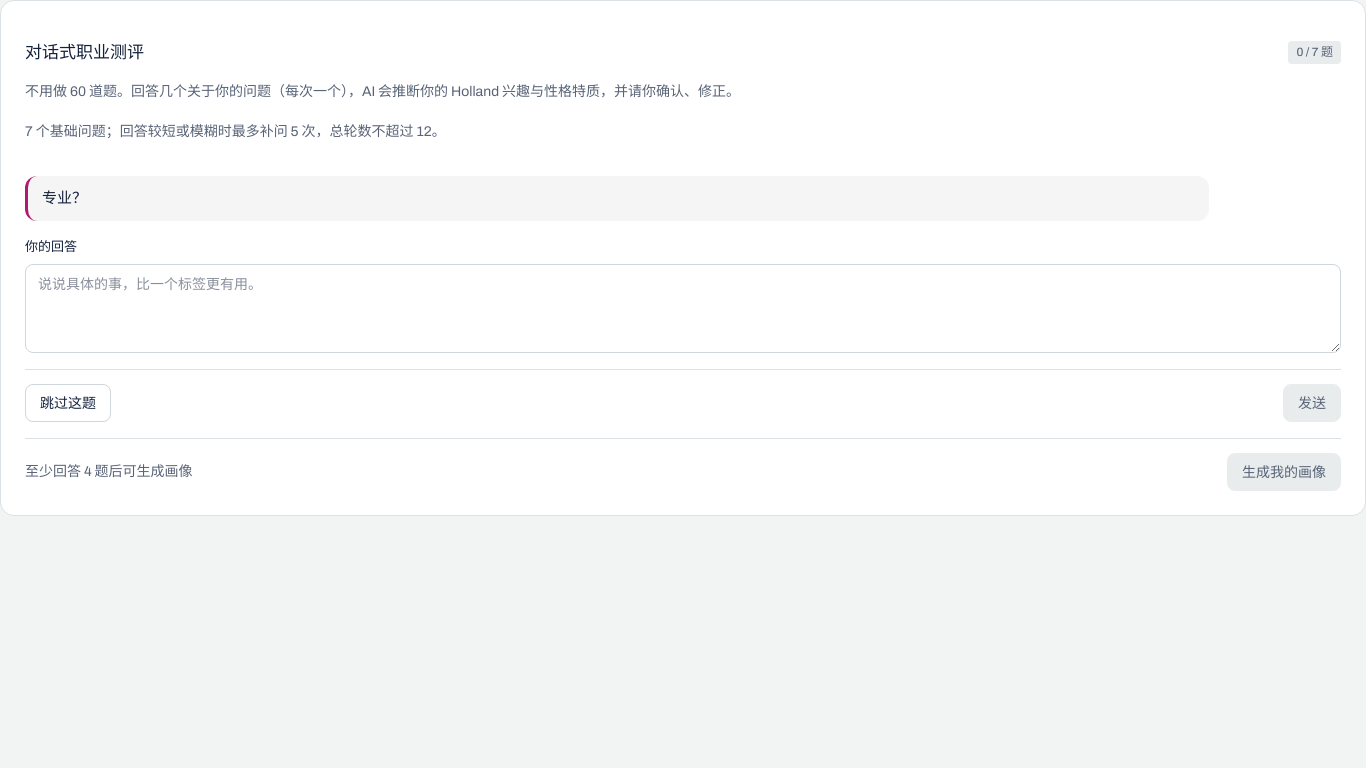
Test: asks the new clarification immediately and resumes base questions after answering it
Step 1. Type "不知道" into the text box labelled "你的回答" → (683, 309), box [25, 264, 1341, 353]
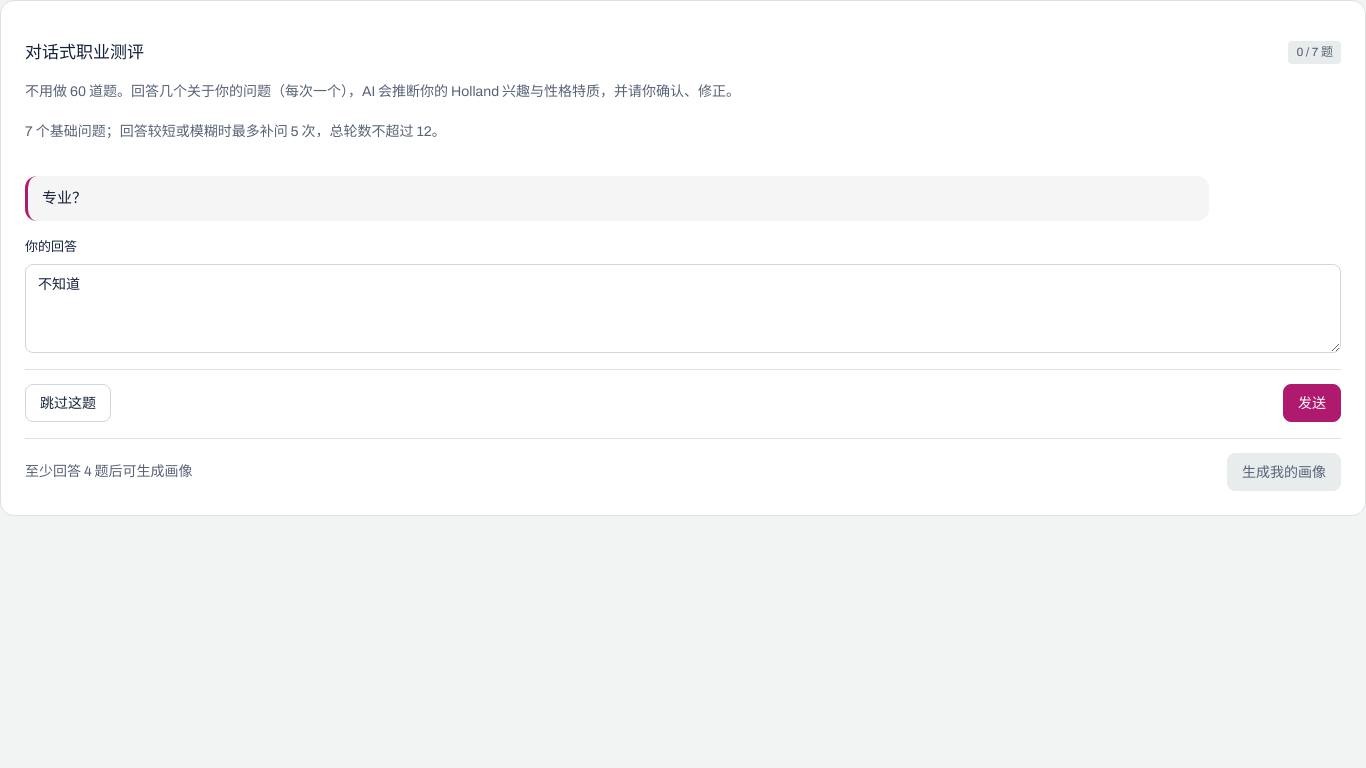
Step 2. Click the button "发送" → (1312, 403), box [1283, 384, 1341, 422]
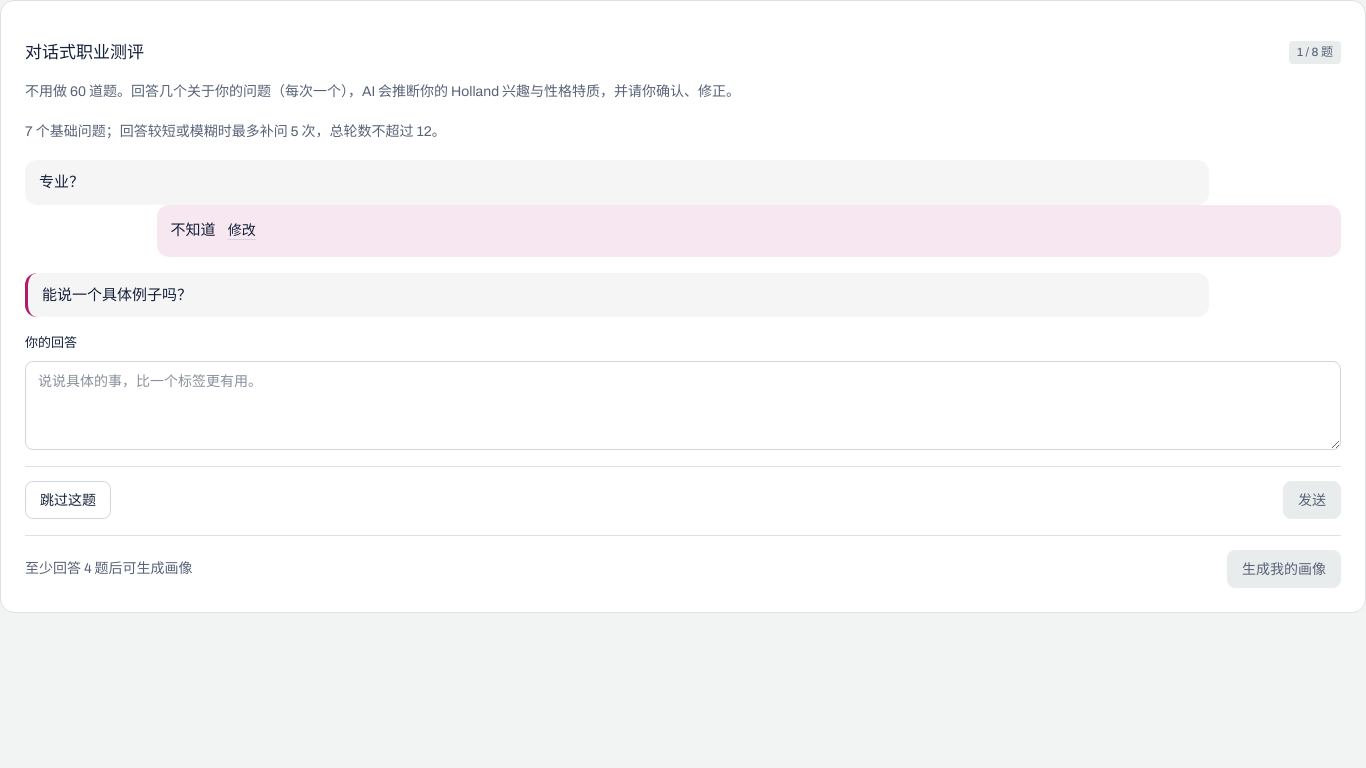
Result: the text with class "current" reads "能说一个具体例子吗？" at [42, 286, 192, 302]
Step 3. Type "我最近做过一个小程序" into the text box labelled "你的回答" → (683, 405), box [25, 361, 1341, 450]
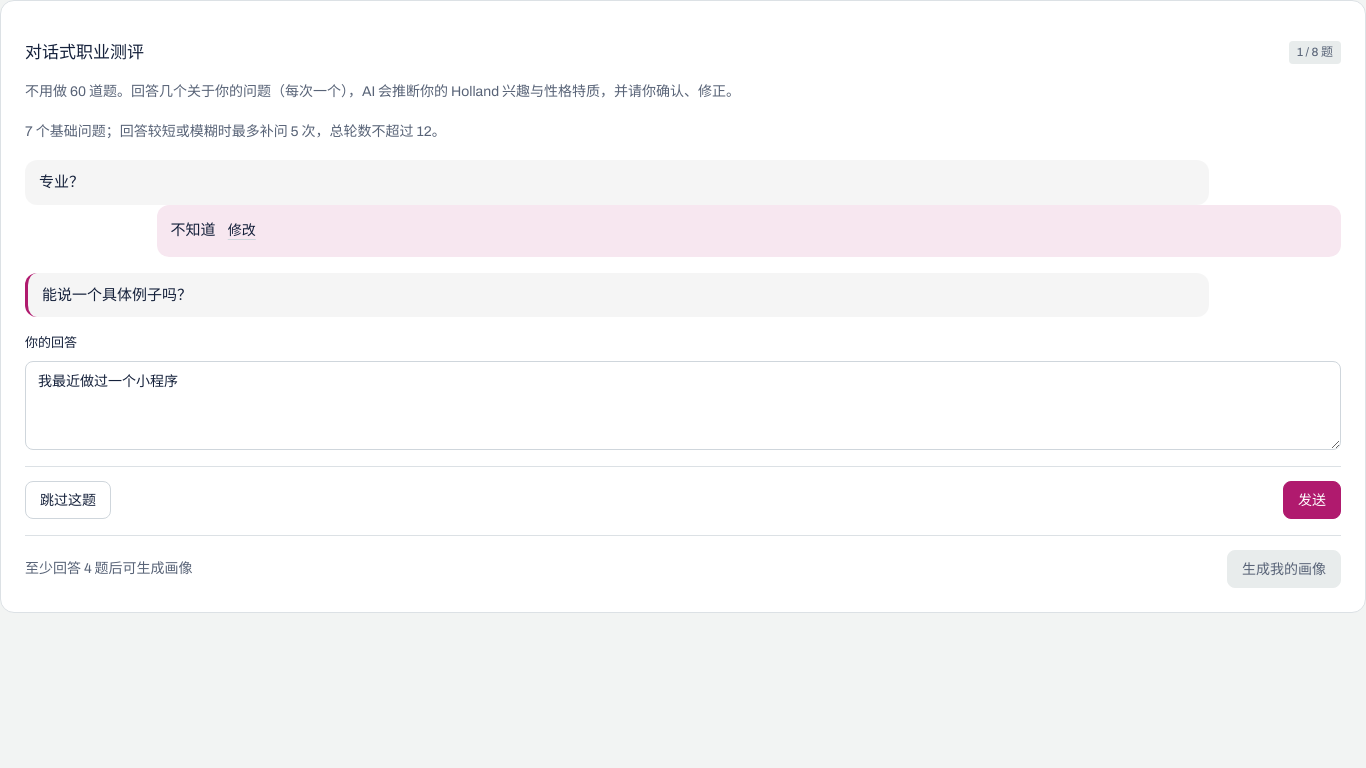
Step 4. Click the button "发送" → (1312, 500), box [1283, 481, 1341, 519]
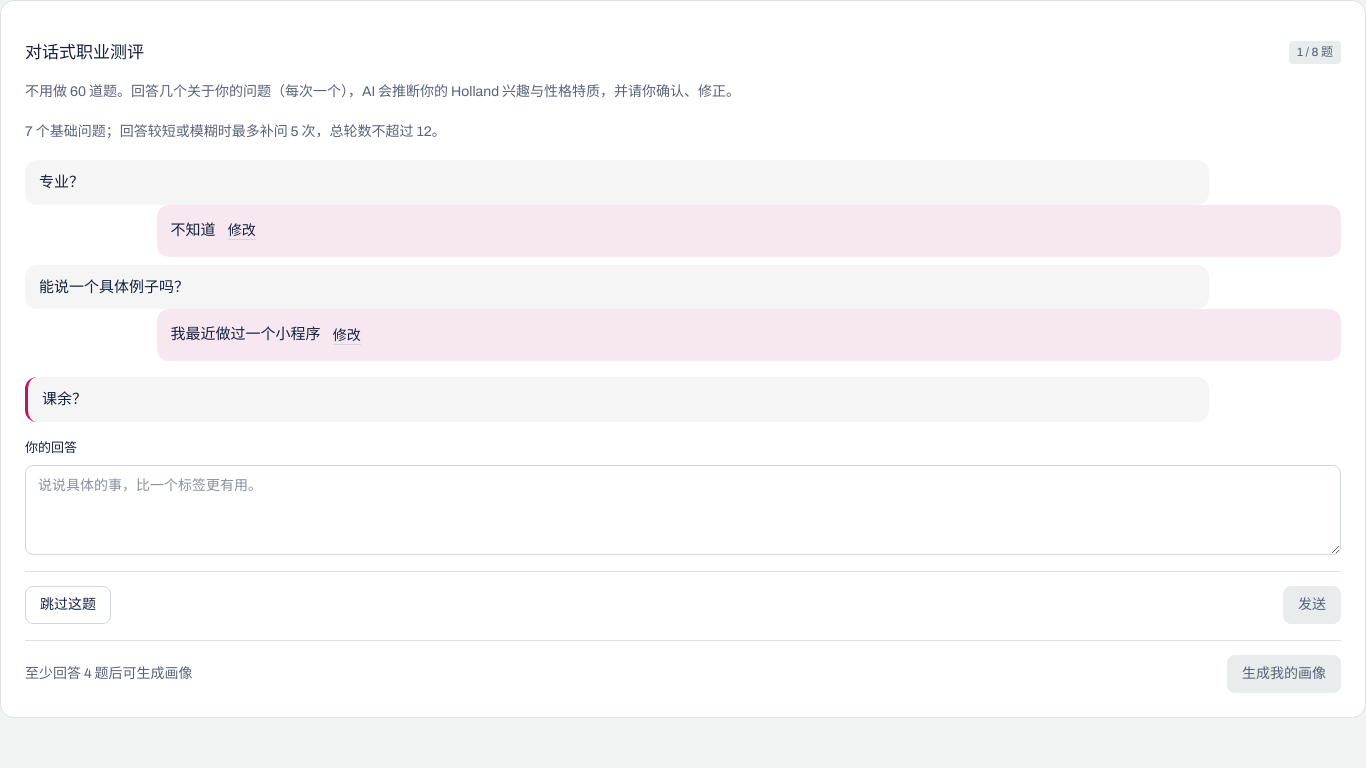
Result: the text with class "current" reads "课余？" at [42, 391, 87, 407]
